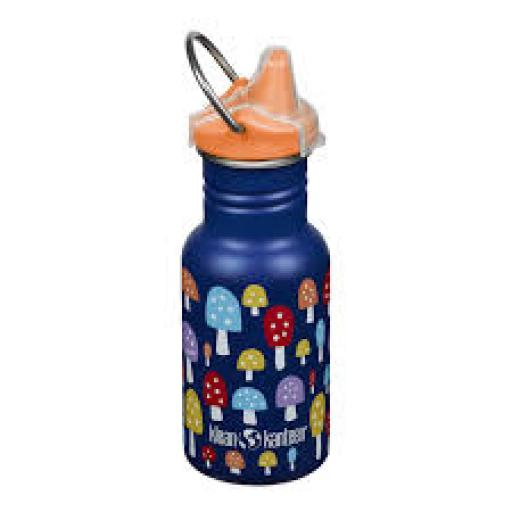blue-bottle: (182, 159, 328, 482)
